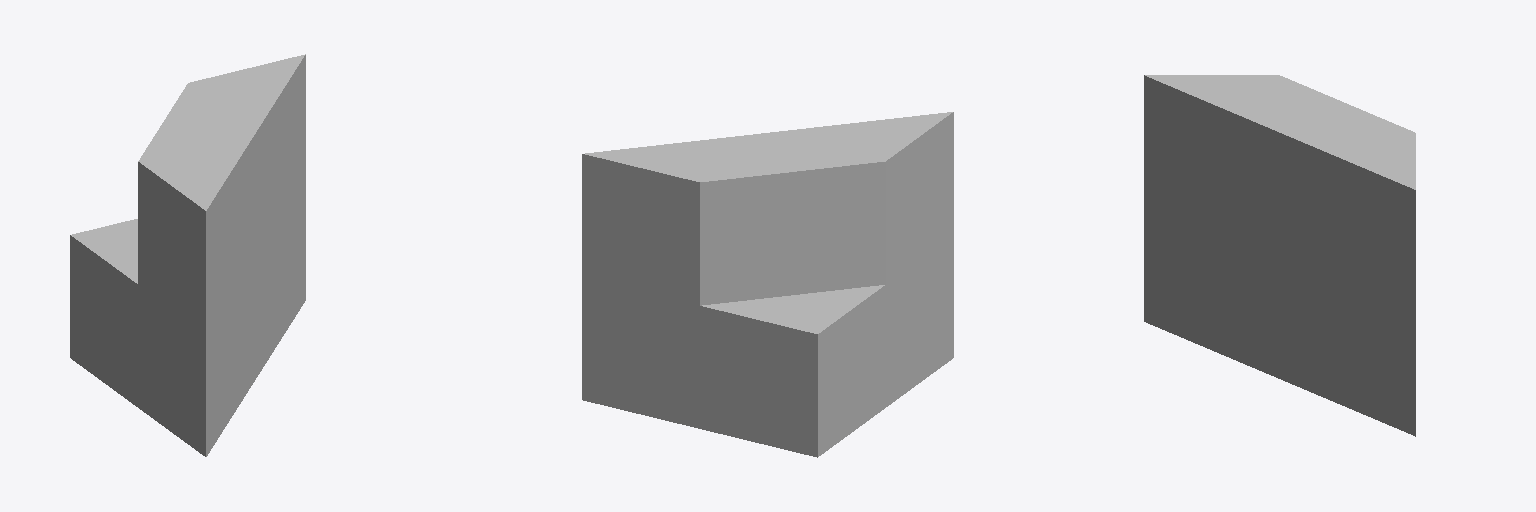
Rendered from diagsteps_43.obj.
3 views of the same model, side by side, from view 1: azimuth 30°, elevation 25°; view 2: azimuth 150°, elevation 25°; view 3: azimuth 270°, elevation 25° (orthographic).
Size of the model in its own units: 1 by 1 by 1.